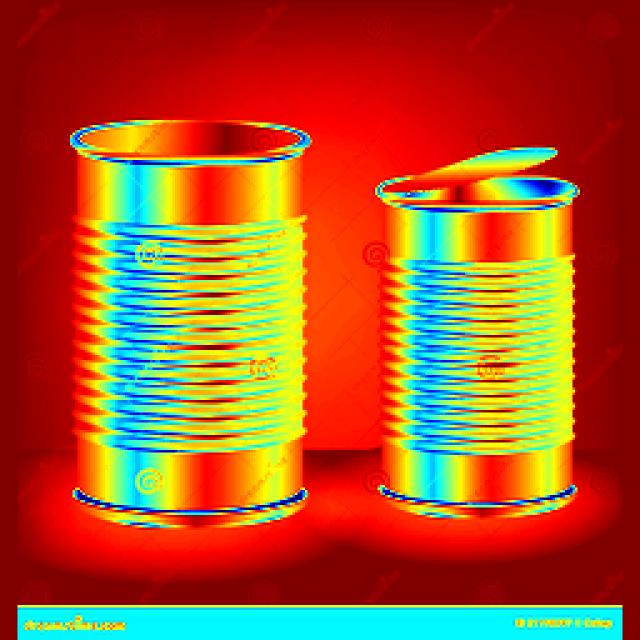Aluminium Food Cans: (60, 121, 305, 528), (382, 142, 580, 514)
